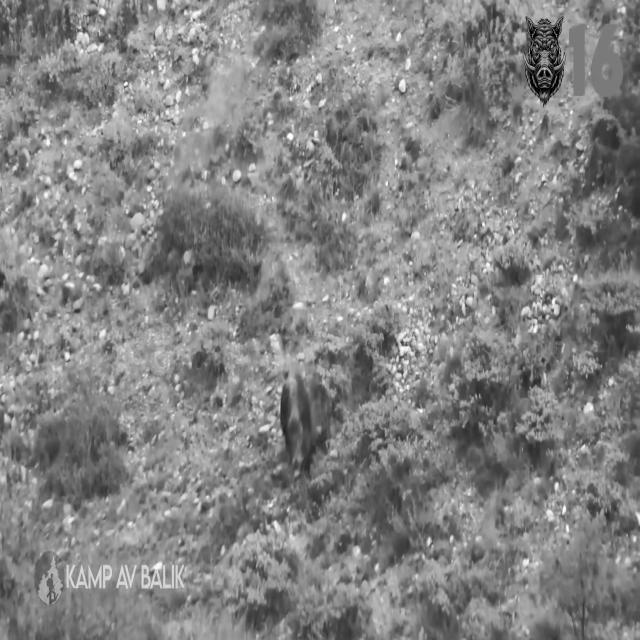boar: (280, 372, 330, 471), (525, 14, 566, 105)
